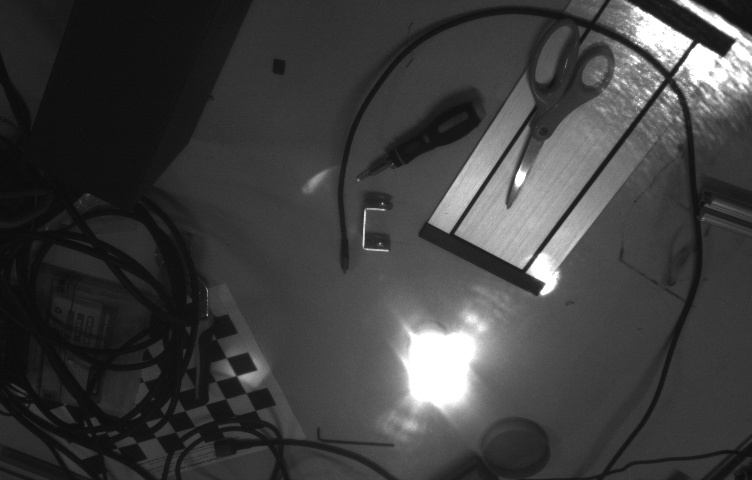Object toy football - Material foam - Color blue - Pdfname VT1ffZoLOnKv: (398, 314, 459, 398)
